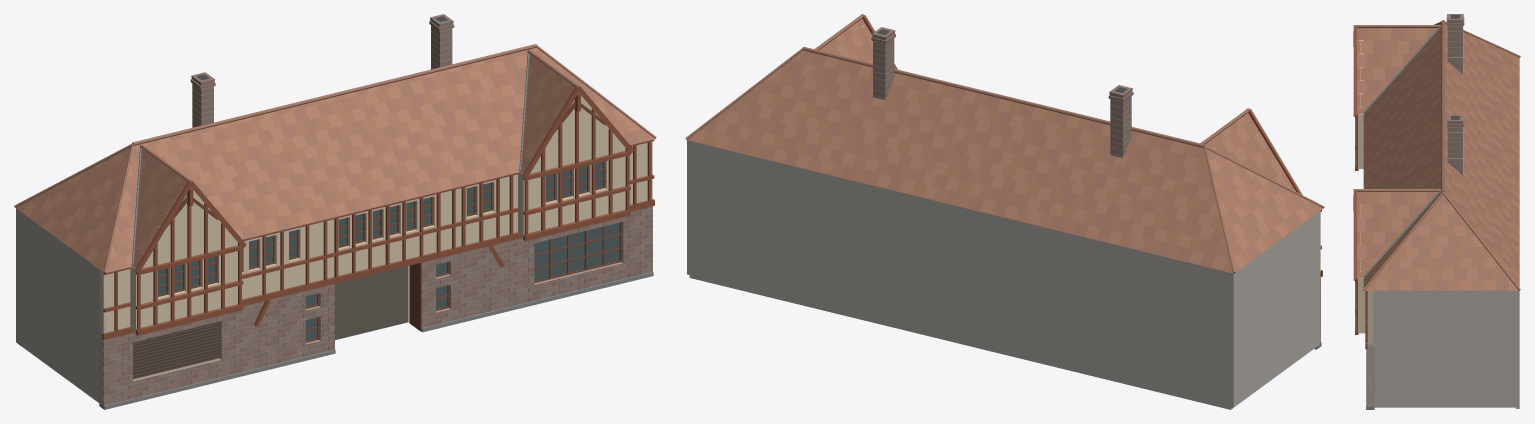
Rendered from huangpu-caldbeck-macgregor-building-lod.glb.
The picture shows the model from 3 angles, left to right: view 1: azimuth 30°, elevation 25°; view 2: azimuth 150°, elevation 25°; view 3: azimuth 270°, elevation 25°; orthographic projection. The views are drawn at different scales.
Visible parts, largest first — view 1: 正广和公司福州路历史街翼; view 2: 正广和公司福州路历史街翼; view 3: 正广和公司福州路历史街翼.
Boxes of the visible parts, bbox=[...] form: 正广和公司福州路历史街翼: bbox=[14, 14, 656, 409]; 正广和公司福州路历史街翼: bbox=[685, 14, 1324, 409]; 正广和公司福州路历史街翼: bbox=[1353, 14, 1520, 409].
Bounding box in the file's own units: 30.77 × 13.74 × 9.3.
